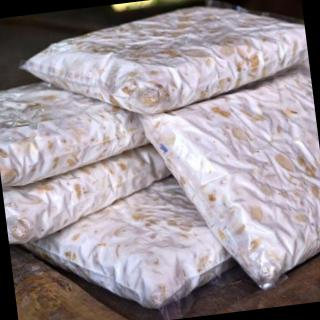Tempe: (13, 1, 313, 130)
